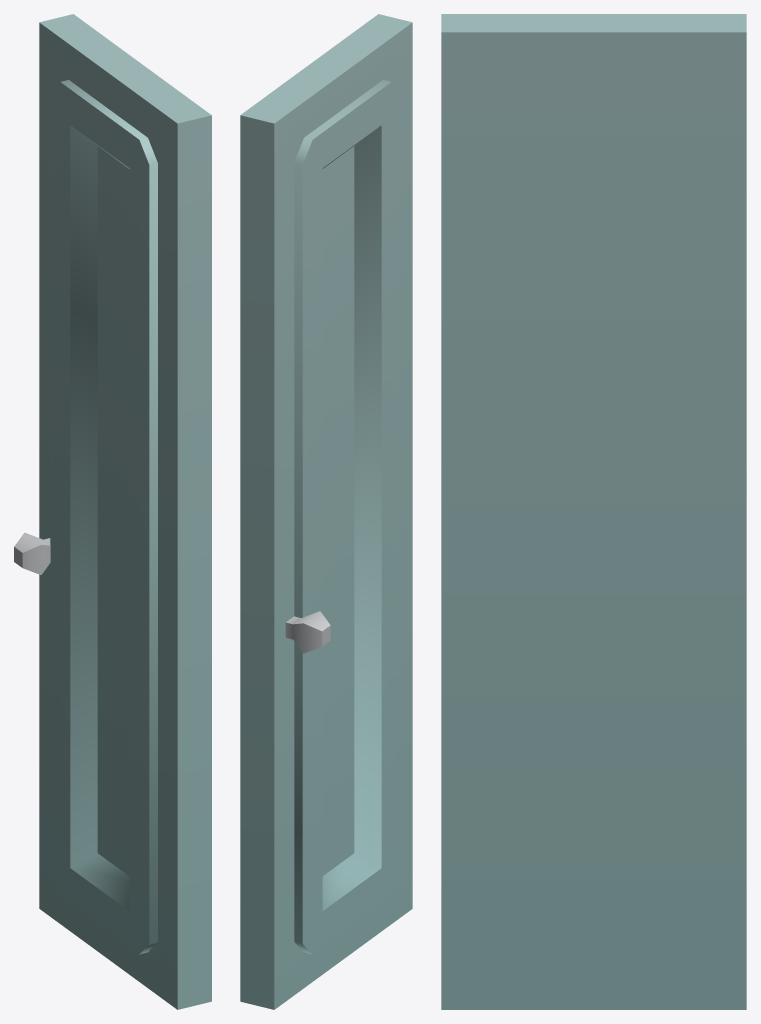
The model's file is (%no-merge) (%open-right).glb.
3 renders of one model, left to right at view 1: azimuth 30°, elevation 25°; view 2: azimuth 150°, elevation 25°; view 3: azimuth 270°, elevation 25°, orthographic. The views are drawn at different scales.
Visible parts, largest first — view 1: (%no-merge) (%open-right); view 2: (%no-merge) (%open-right); view 3: (%no-merge) (%open-right).
Part boxes in pixels (x1,y1,x2,y2): (%no-merge) (%open-right): [14, 14, 211, 1009]; (%no-merge) (%open-right): [240, 14, 412, 1009]; (%no-merge) (%open-right): [441, 14, 746, 1009].
Bounding box in the file's own units: 0.1032 × 1.24 × 0.35.
